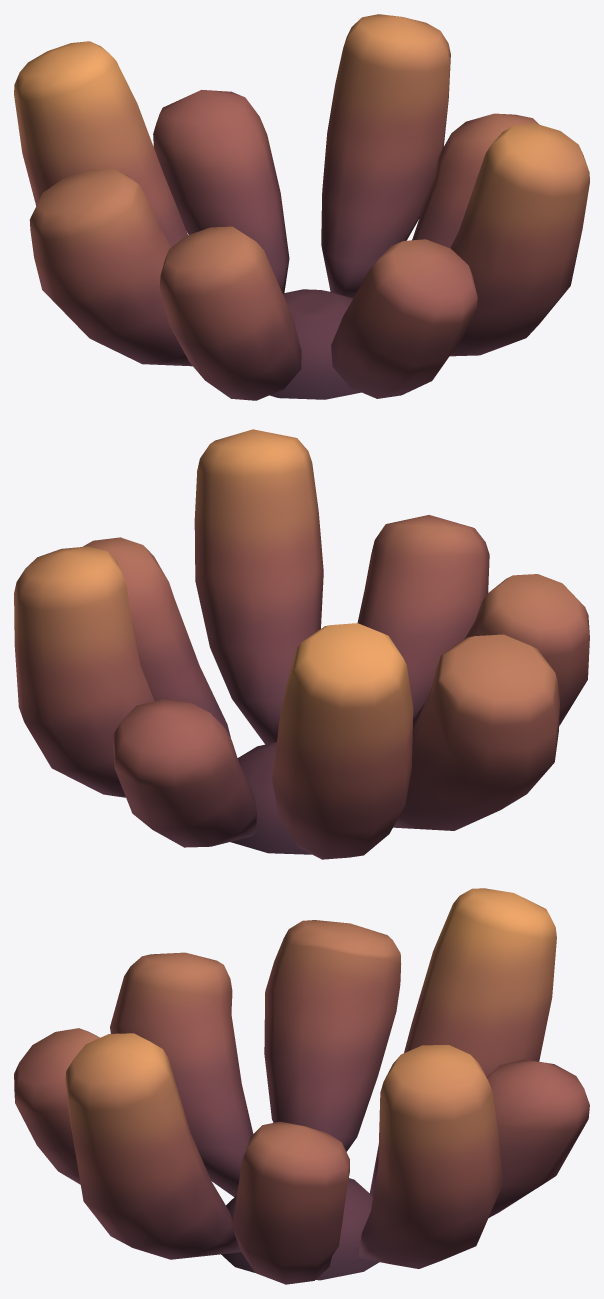
File: Plants_032.fbx
3 renders of one model, top to bottom at view 1: azimuth 30°, elevation 25°; view 2: azimuth 150°, elevation 25°; view 3: azimuth 270°, elevation 25°, orthographic. The views are drawn at different scales.
Parts seen in each view (by area): view 1: Plants.032; view 2: Plants.032; view 3: Plants.032.
Part boxes in pixels (x1,y1,x2,y2): Plants.032: (14,14,589,400); Plants.032: (14,429,589,859); Plants.032: (14,888,589,1284).
Size of the model in its own units: 634 by 345 by 645.
